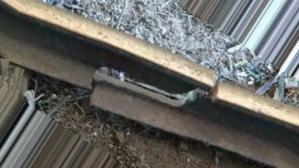tracks_fault: (183, 59, 221, 115)
